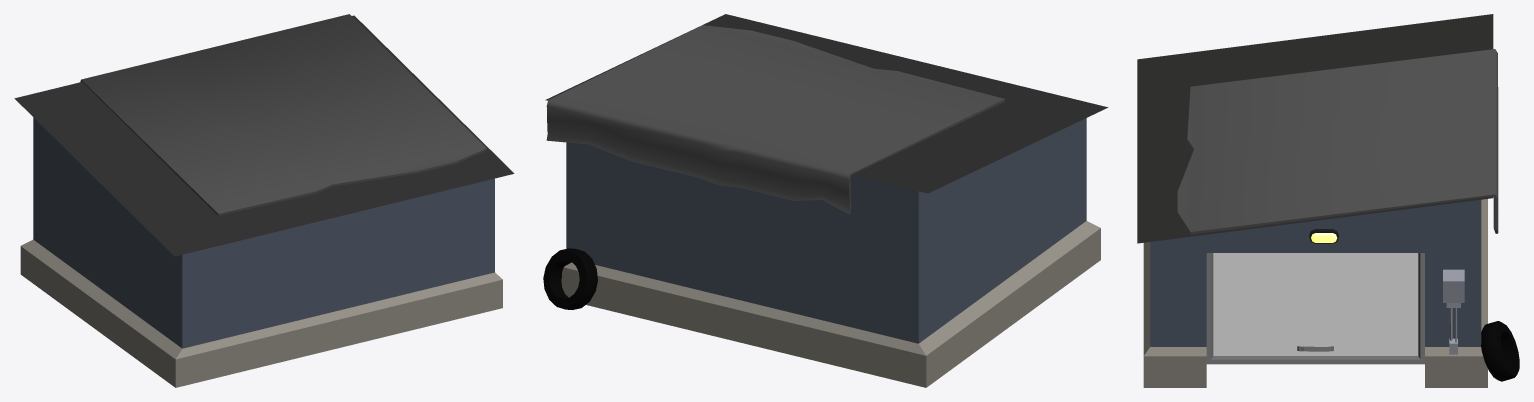
The model's file is Garage3.fbx.
3 views of the same model, side by side, from view 1: azimuth 30°, elevation 25°; view 2: azimuth 150°, elevation 25°; view 3: azimuth 270°, elevation 25° (orthographic). The views are drawn at different scales.
Visible parts, largest first — view 1: garage 4, nastil; view 2: garage 4, nastil, Tire; view 3: garage 4, nastil, garage1door.001, Tire, Provodka2.001, ShortLamp2.
Part boxes in pixels (box(x1,y1,x2,y2)): garage 4: box(14, 15, 514, 387); nastil: box(80, 14, 486, 215); garage 4: box(545, 14, 1108, 387); nastil: box(546, 25, 1004, 214); Tire: box(543, 248, 597, 309); garage 4: box(1137, 14, 1493, 387); nastil: box(1177, 49, 1498, 234); garage1door.001: box(1206, 253, 1424, 364); Tire: box(1481, 321, 1519, 381); Provodka2.001: box(1443, 269, 1464, 354); ShortLamp2: box(1309, 229, 1338, 243).
Size of the model in its own units: 598 by 297 by 525.
